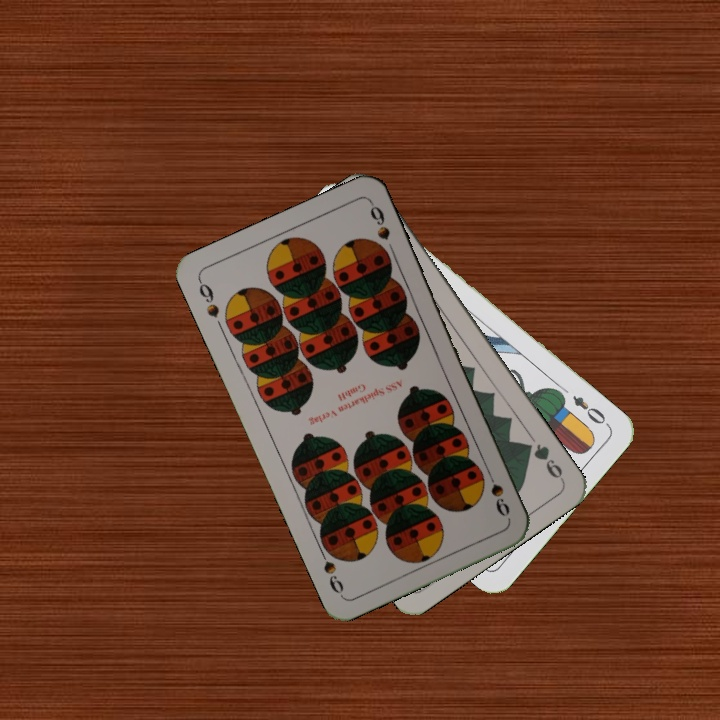EO: (568, 391, 612, 429)
G9: (519, 439, 567, 484)
S9: (482, 464, 512, 519), (194, 276, 222, 321)
